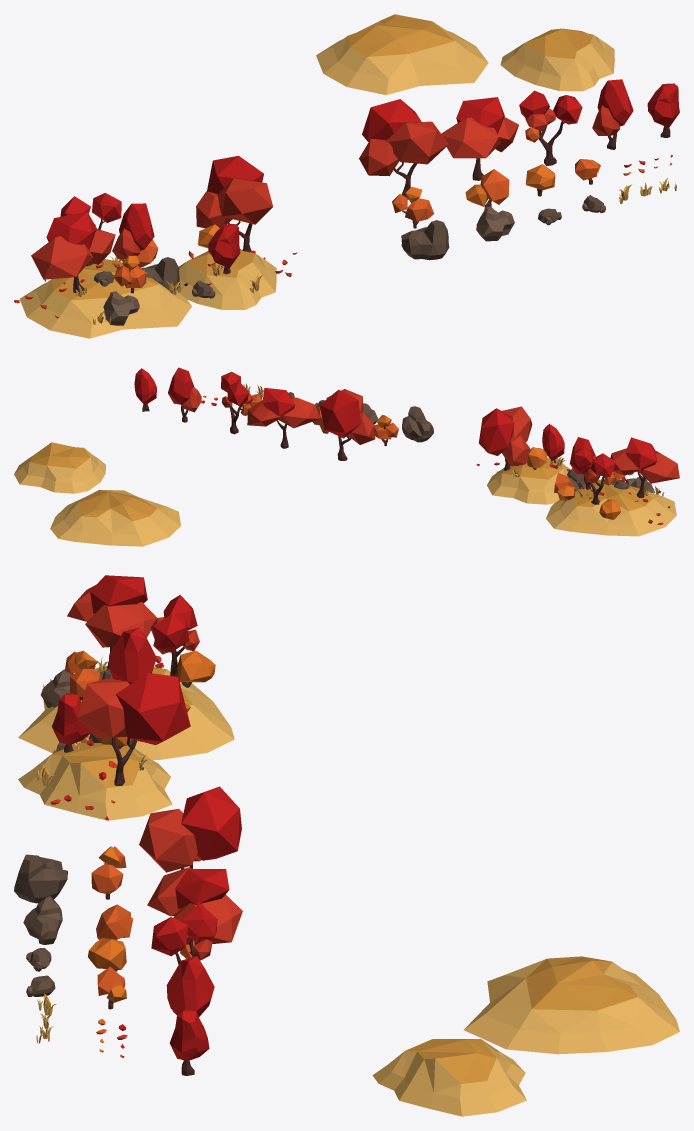
Rendered from autumn_tree_set.obj.
3 renders of one model, top to bottom at view 1: azimuth 30°, elevation 25°; view 2: azimuth 150°, elevation 25°; view 3: azimuth 270°, elevation 25°, orthographic. The views are drawn at different scales.
Parts seen in each view (by area): view 1: sample_island, island_1, island_2, tree_1, tree_2, tree_3, tree_4, rock_1, tree_5, bush_2, rock_2, bush_1 (+1 smaller); view 2: sample_island, island_1, island_2, tree_1, tree_2, tree_3, tree_4, rock_1, tree_5, bush_1; view 3: sample_island, island_1, island_2, tree_1, tree_2, tree_3, tree_4, rock_1, tree_5, rock_2, bush_1, bush_2 (+2 smaller).
Boxes of the visible parts, <box> form: sample_island: <box>14,155,297,338</box>; island_1: <box>316,14,488,95</box>; island_2: <box>500,28,614,91</box>; tree_1: <box>359,99,448,197</box>; tree_2: <box>441,97,518,180</box>; tree_3: <box>519,90,582,166</box>; tree_4: <box>592,79,633,149</box>; rock_1: <box>401,220,449,260</box>; tree_5: <box>647,83,679,137</box>; bush_2: <box>465,169,509,207</box>; rock_2: <box>476,206,514,241</box>; bush_1: <box>392,187,434,228</box>; sample_island: <box>476,406,679,536</box>; island_1: <box>50,489,180,546</box>; island_2: <box>14,442,105,493</box>; tree_1: <box>319,389,375,460</box>; tree_2: <box>247,388,320,448</box>; tree_3: <box>221,371,253,434</box>; tree_4: <box>168,367,201,422</box>; rock_1: <box>402,406,433,442</box>; tree_5: <box>134,368,156,411</box>; bush_1: <box>374,415,398,446</box>; sample_island: <box>18,575,234,820</box>; island_1: <box>464,956,679,1054</box>; island_2: <box>372,1039,526,1116</box>; tree_1: <box>139,786,241,872</box>; tree_2: <box>147,867,242,960</box>; tree_3: <box>151,902,217,964</box>; tree_4: <box>166,956,214,1016</box>; rock_1: <box>14,854,67,903</box>; tree_5: <box>169,1009,209,1075</box>; rock_2: <box>23,896,62,944</box>; bush_1: <box>91,846,126,899</box>; bush_2: <box>96,904,133,940</box>.
Bounding box in the file's own units: 6109 × 858 × 3852.
2 materials, 1 textured.
